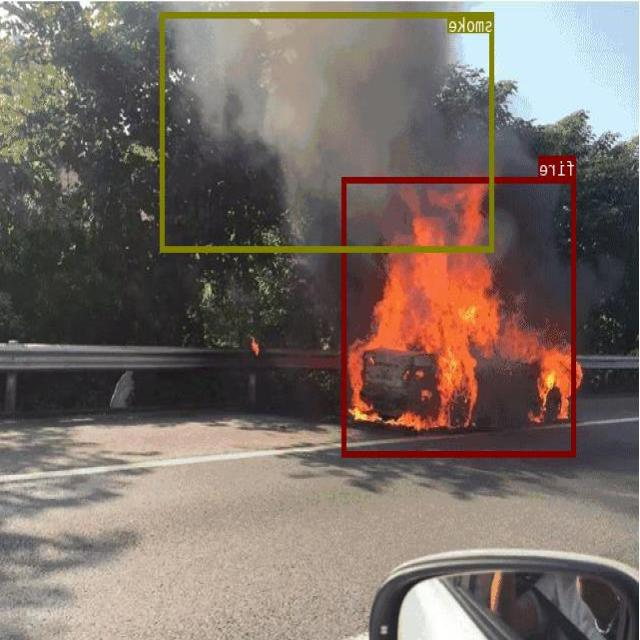fire: (343, 177, 577, 456)
smoke: (162, 12, 494, 251)
